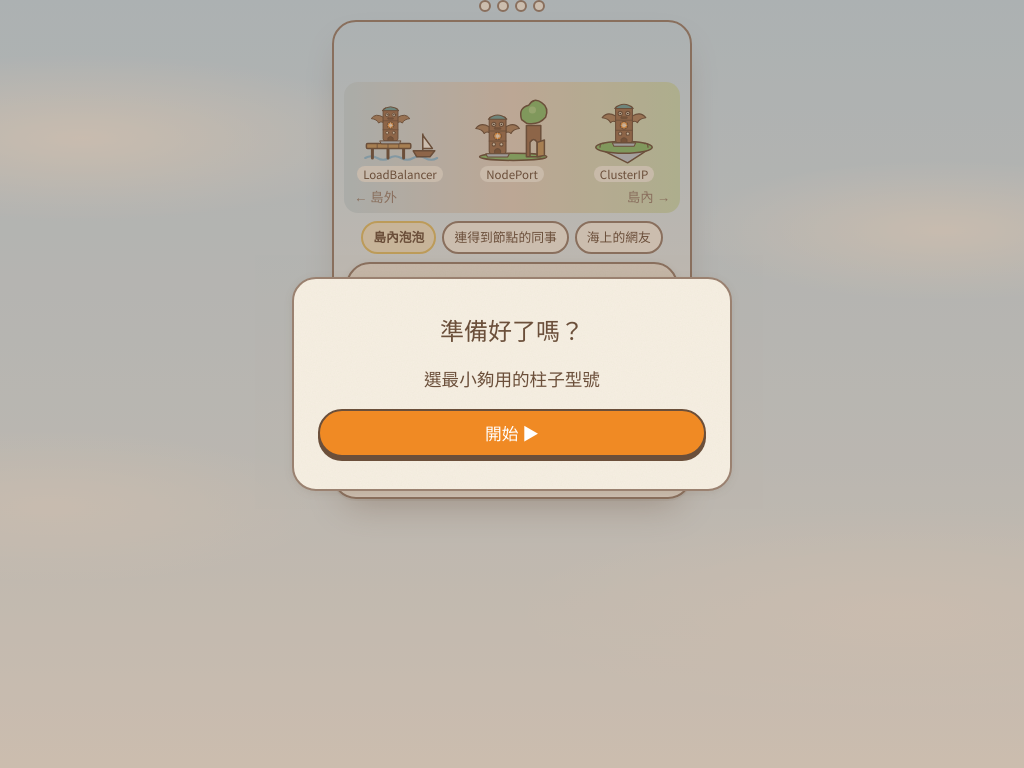
Test case: Day15Game › 錯 2 回合就失敗，再玩一次回到第 1 回合
The image size is (1024, 768).
Click the button with test id "shell-start".
click(512, 433)  # box [318, 409, 706, 457]
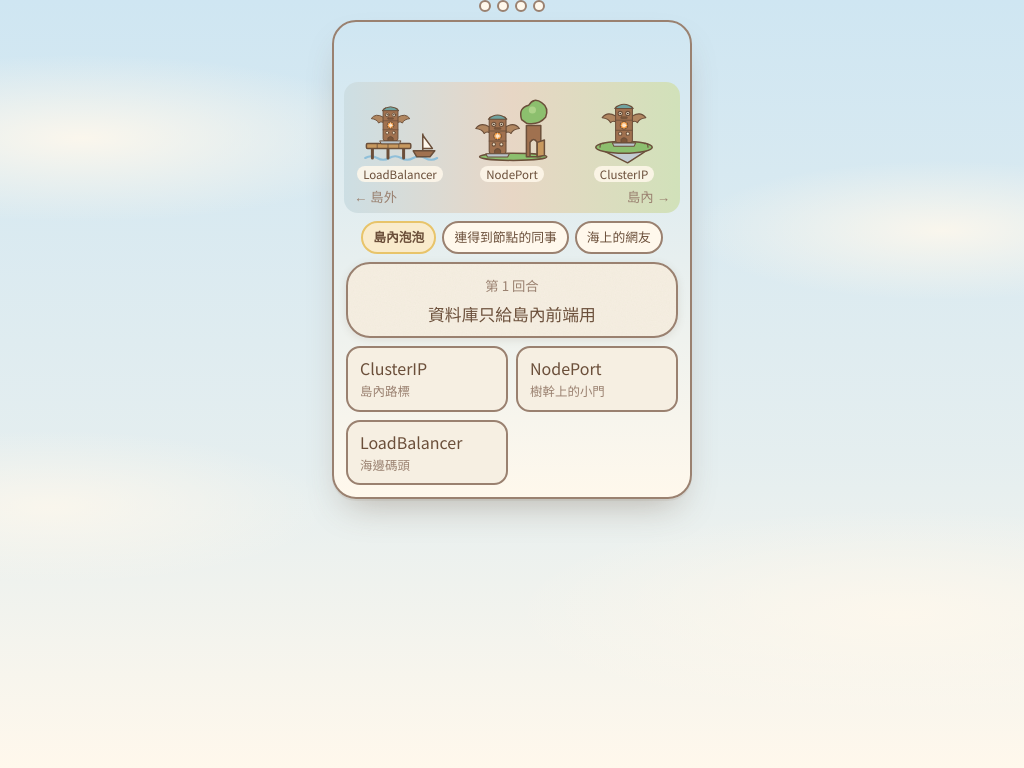
Click the button "NodePort 樹幹上的小門".
click(597, 379)  # box [516, 346, 678, 412]
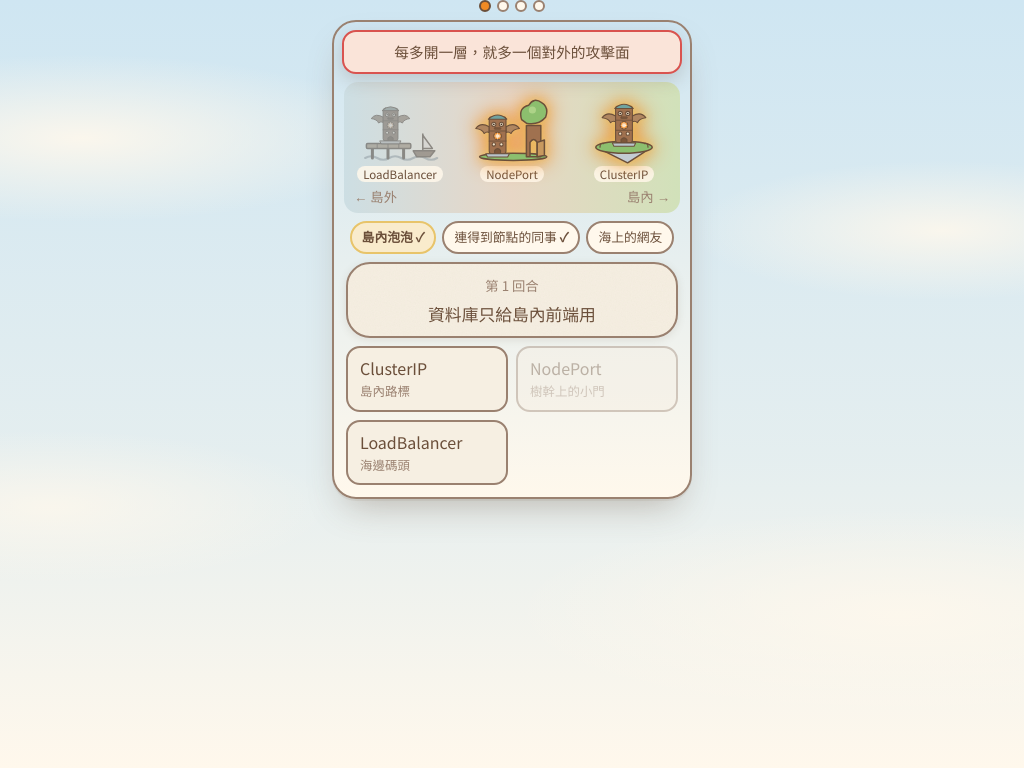
Click the button "ClusterIP 島內路標".
click(427, 379)  # box [346, 346, 508, 412]
Wait 1500 ms
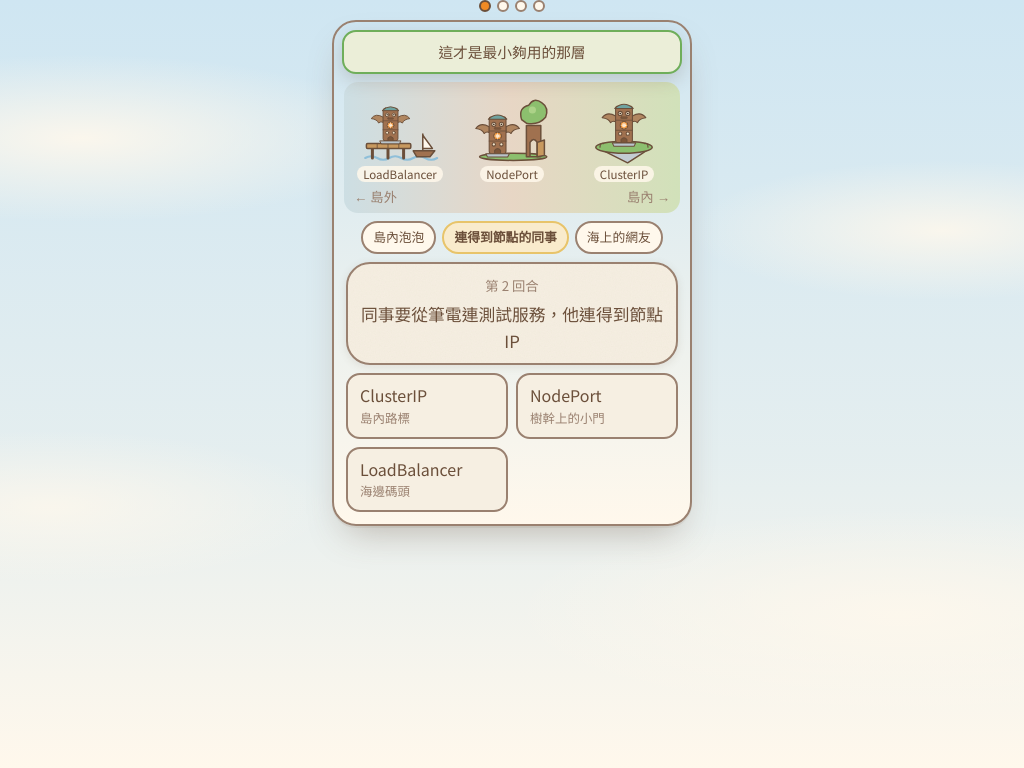
Click the button "ClusterIP 島內路標".
click(427, 406)  # box [346, 373, 508, 439]
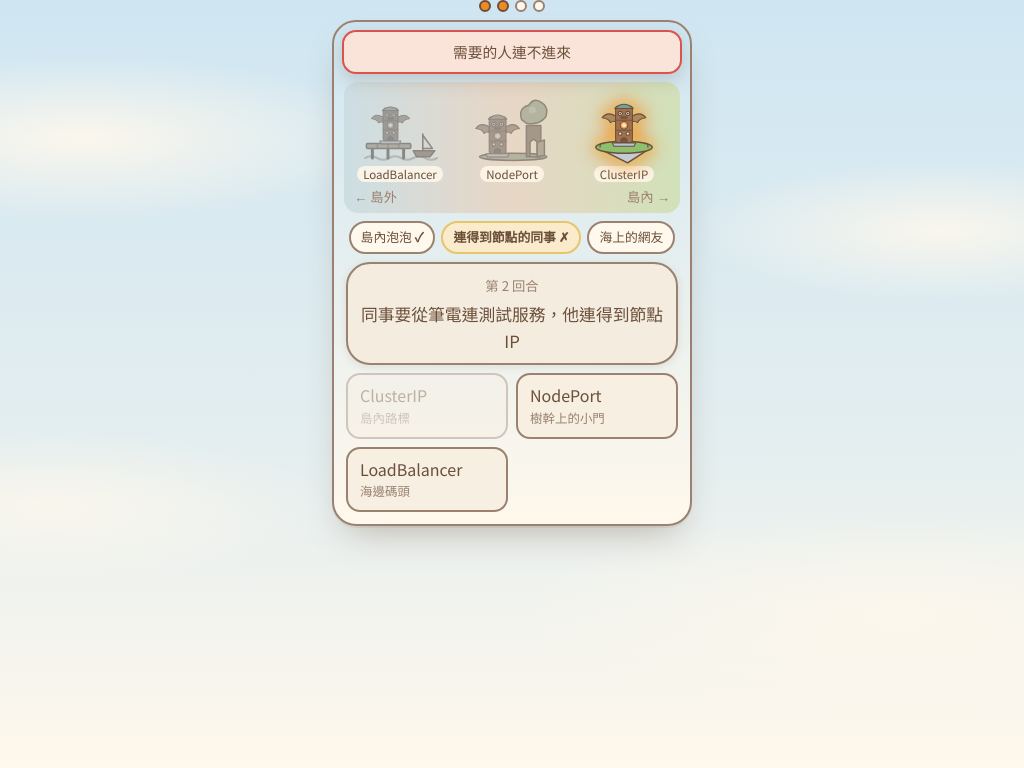
Click the button "NodePort 樹幹上的小門".
click(597, 406)  # box [516, 373, 678, 439]
Wait 1500 ms
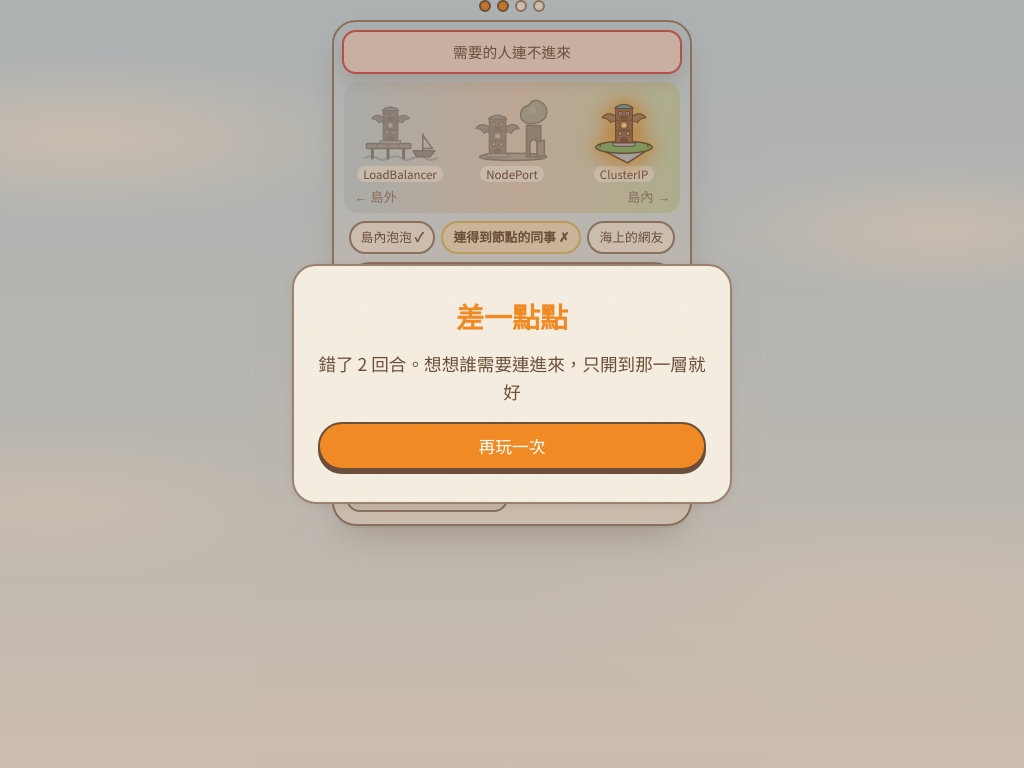
Result: the button with test id "shell-retry" is shown
Click the button with test id "shell-retry".
click(512, 446)  # box [318, 422, 706, 470]
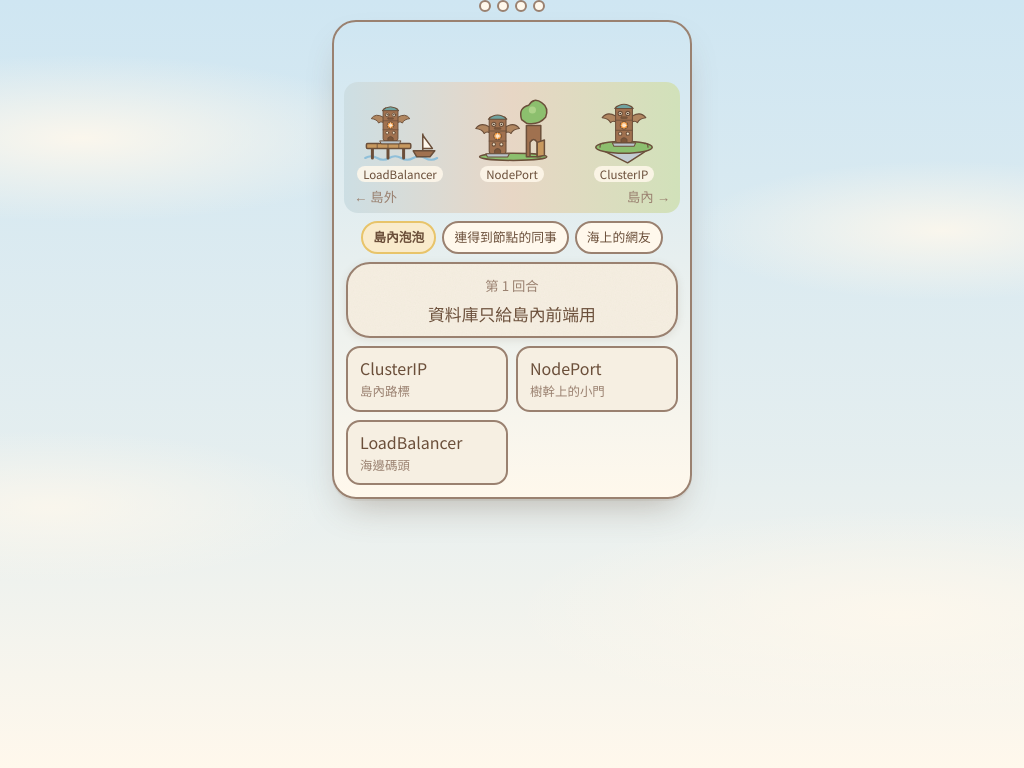
Result: the text with test id "round" shows "1" at [485, 276, 539, 295]
